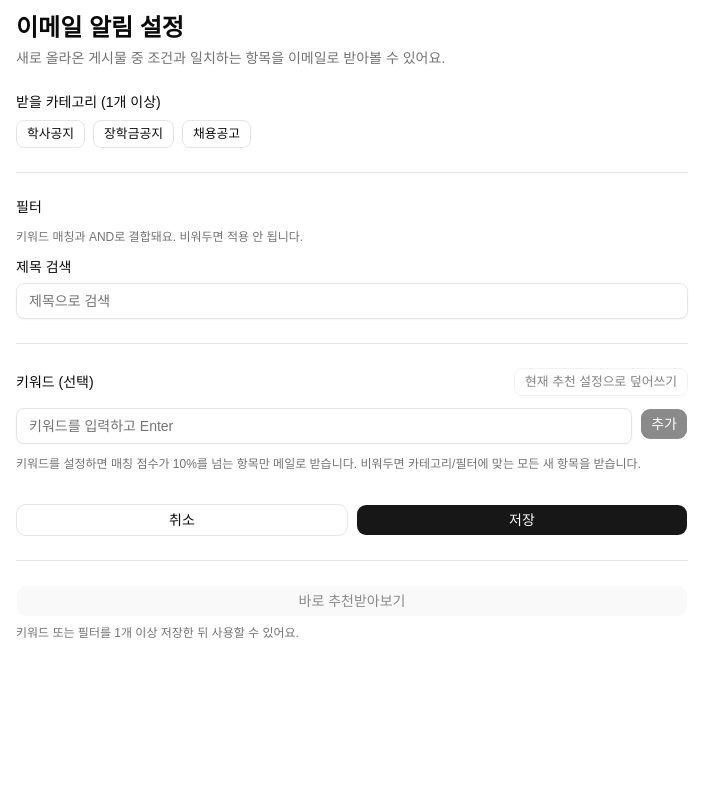
Test: NotificationSettingsPage › shows error when saving with no categories selected
Click the button "채용공고" at {"x": 217, "y": 134}, box [182,120,251,148]
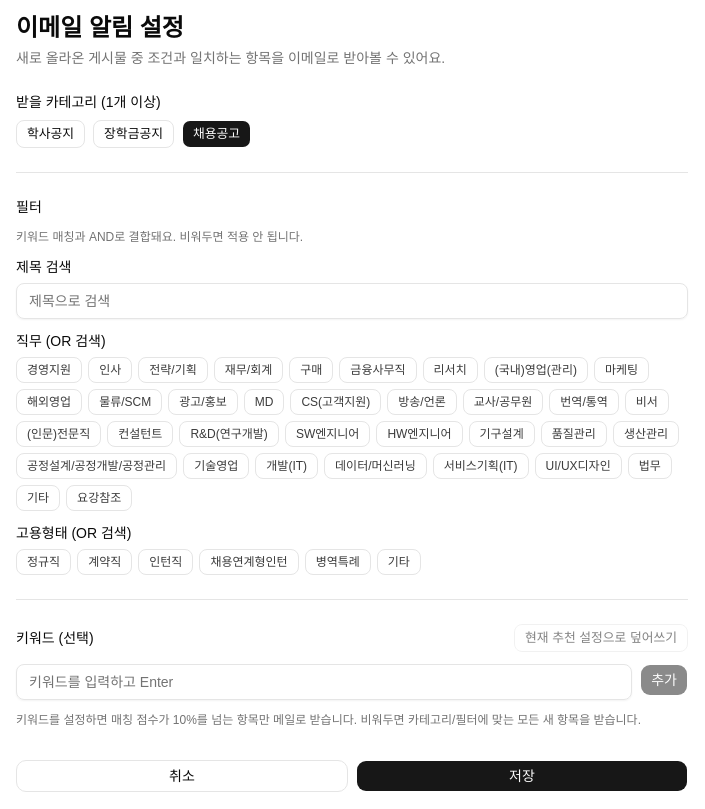
Click the button "채용공고" at {"x": 217, "y": 134}, box [182,120,251,148]
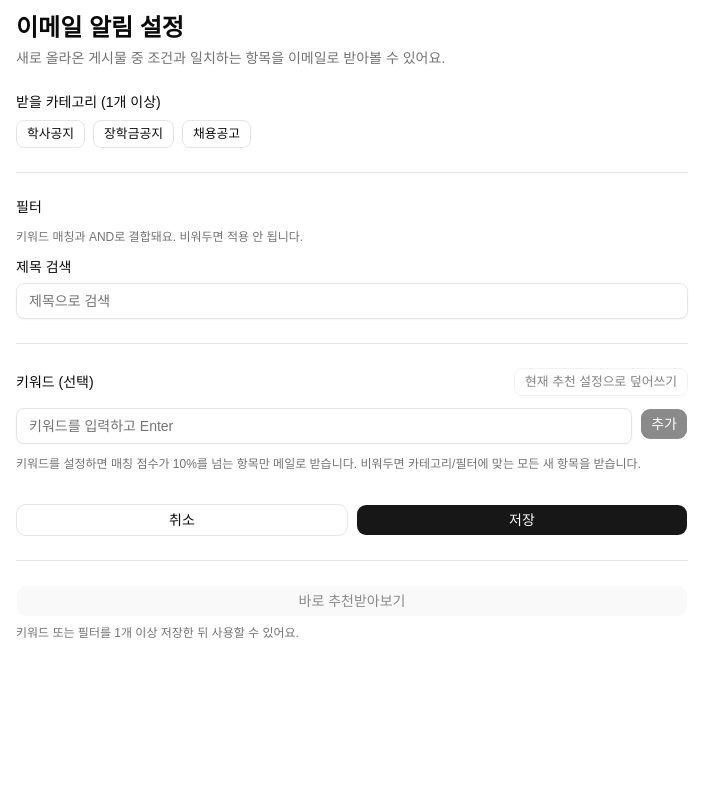
Click the button "저장" at {"x": 522, "y": 520}, box [356,504,688,536]
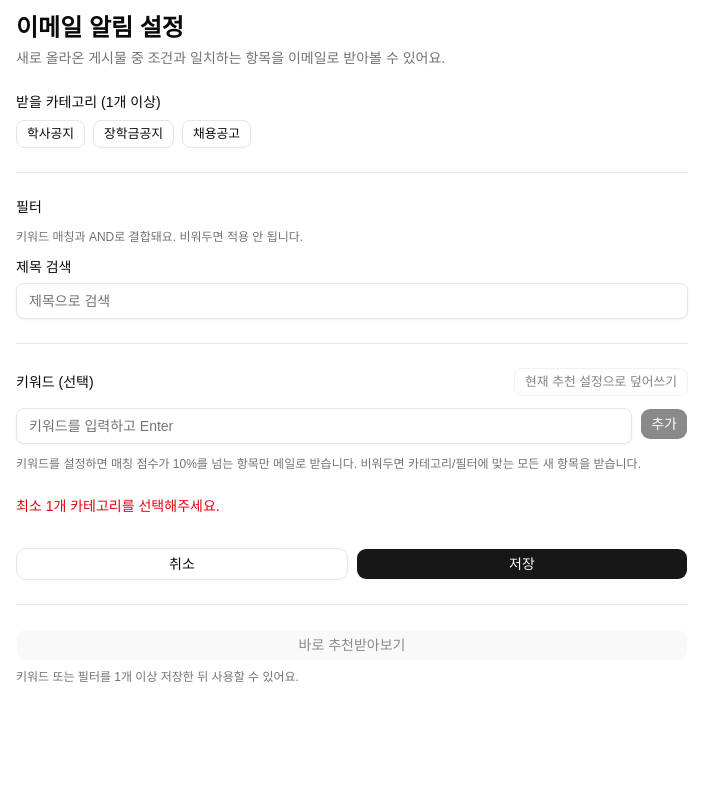
Expected: the text "최소 1개 카테고리를 선택해주세요." is shown, [16,498,220,514]
